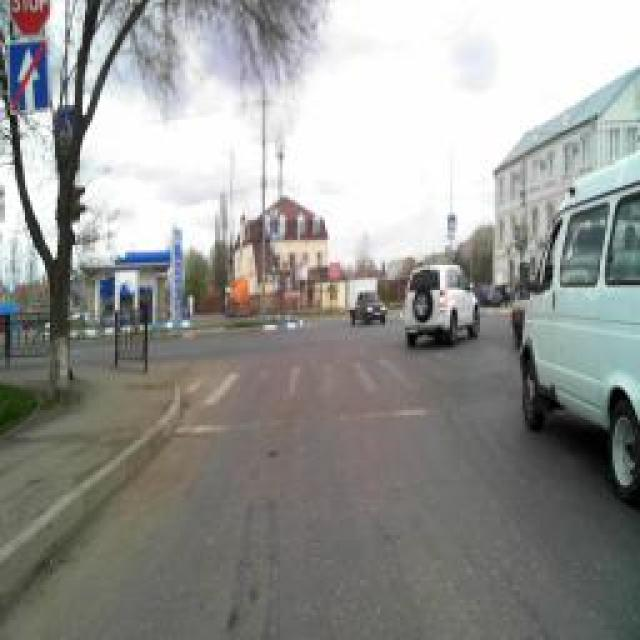sign: (8, 38, 50, 112), (56, 104, 82, 148)
